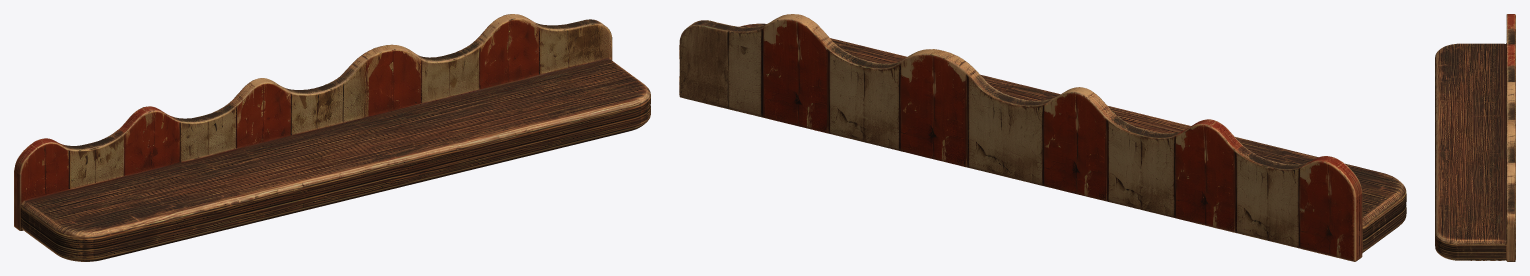
Rendered from Meshy_AI_Scalloped_back_wooden_0511180013_texture.fbx.
3 views of the same model, side by side, from view 1: azimuth 30°, elevation 25°; view 2: azimuth 150°, elevation 25°; view 3: azimuth 270°, elevation 25° (orthographic). The views are drawn at different scales.
Visible parts, largest first — view 1: Mesh_0; view 2: Mesh_0; view 3: Mesh_0.
Boxes of the visible parts, x1=… form: Mesh_0: x1=14, y1=14, x2=650, y2=261; Mesh_0: x1=679, y1=14, x2=1406, y2=261; Mesh_0: x1=1435, y1=14, x2=1515, y2=261.
Size of the model in its own units: 191 by 28.72 by 32.73.
1 material, 1 textured.
